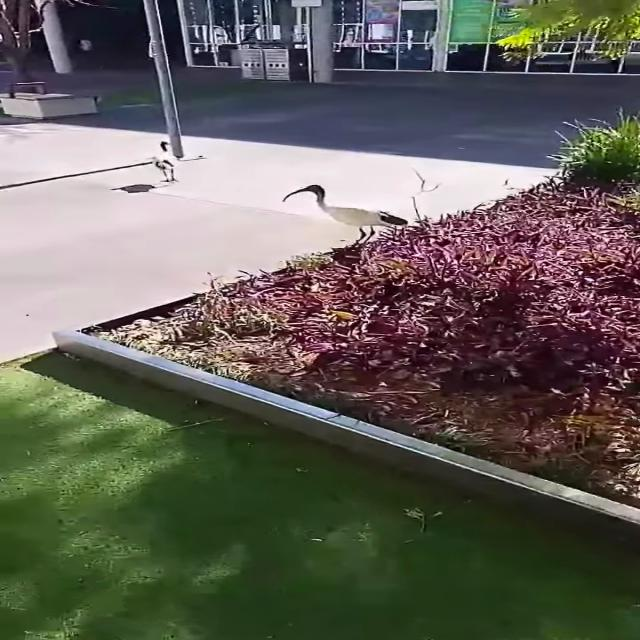Birds-Ibis: (274, 179, 424, 249), (142, 137, 192, 188)
